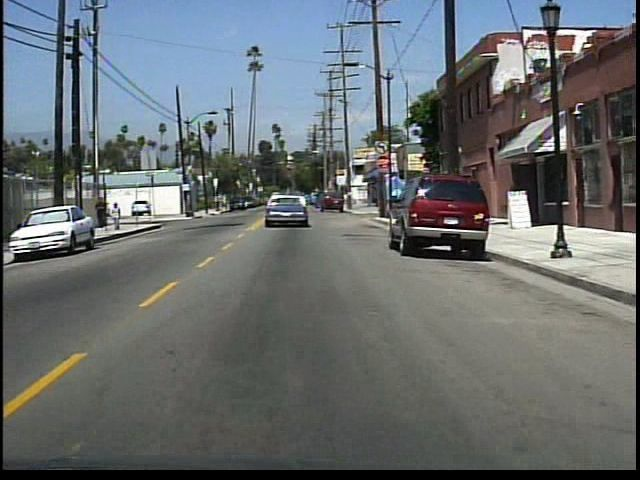person: (97, 196, 113, 231), (113, 199, 126, 231)
